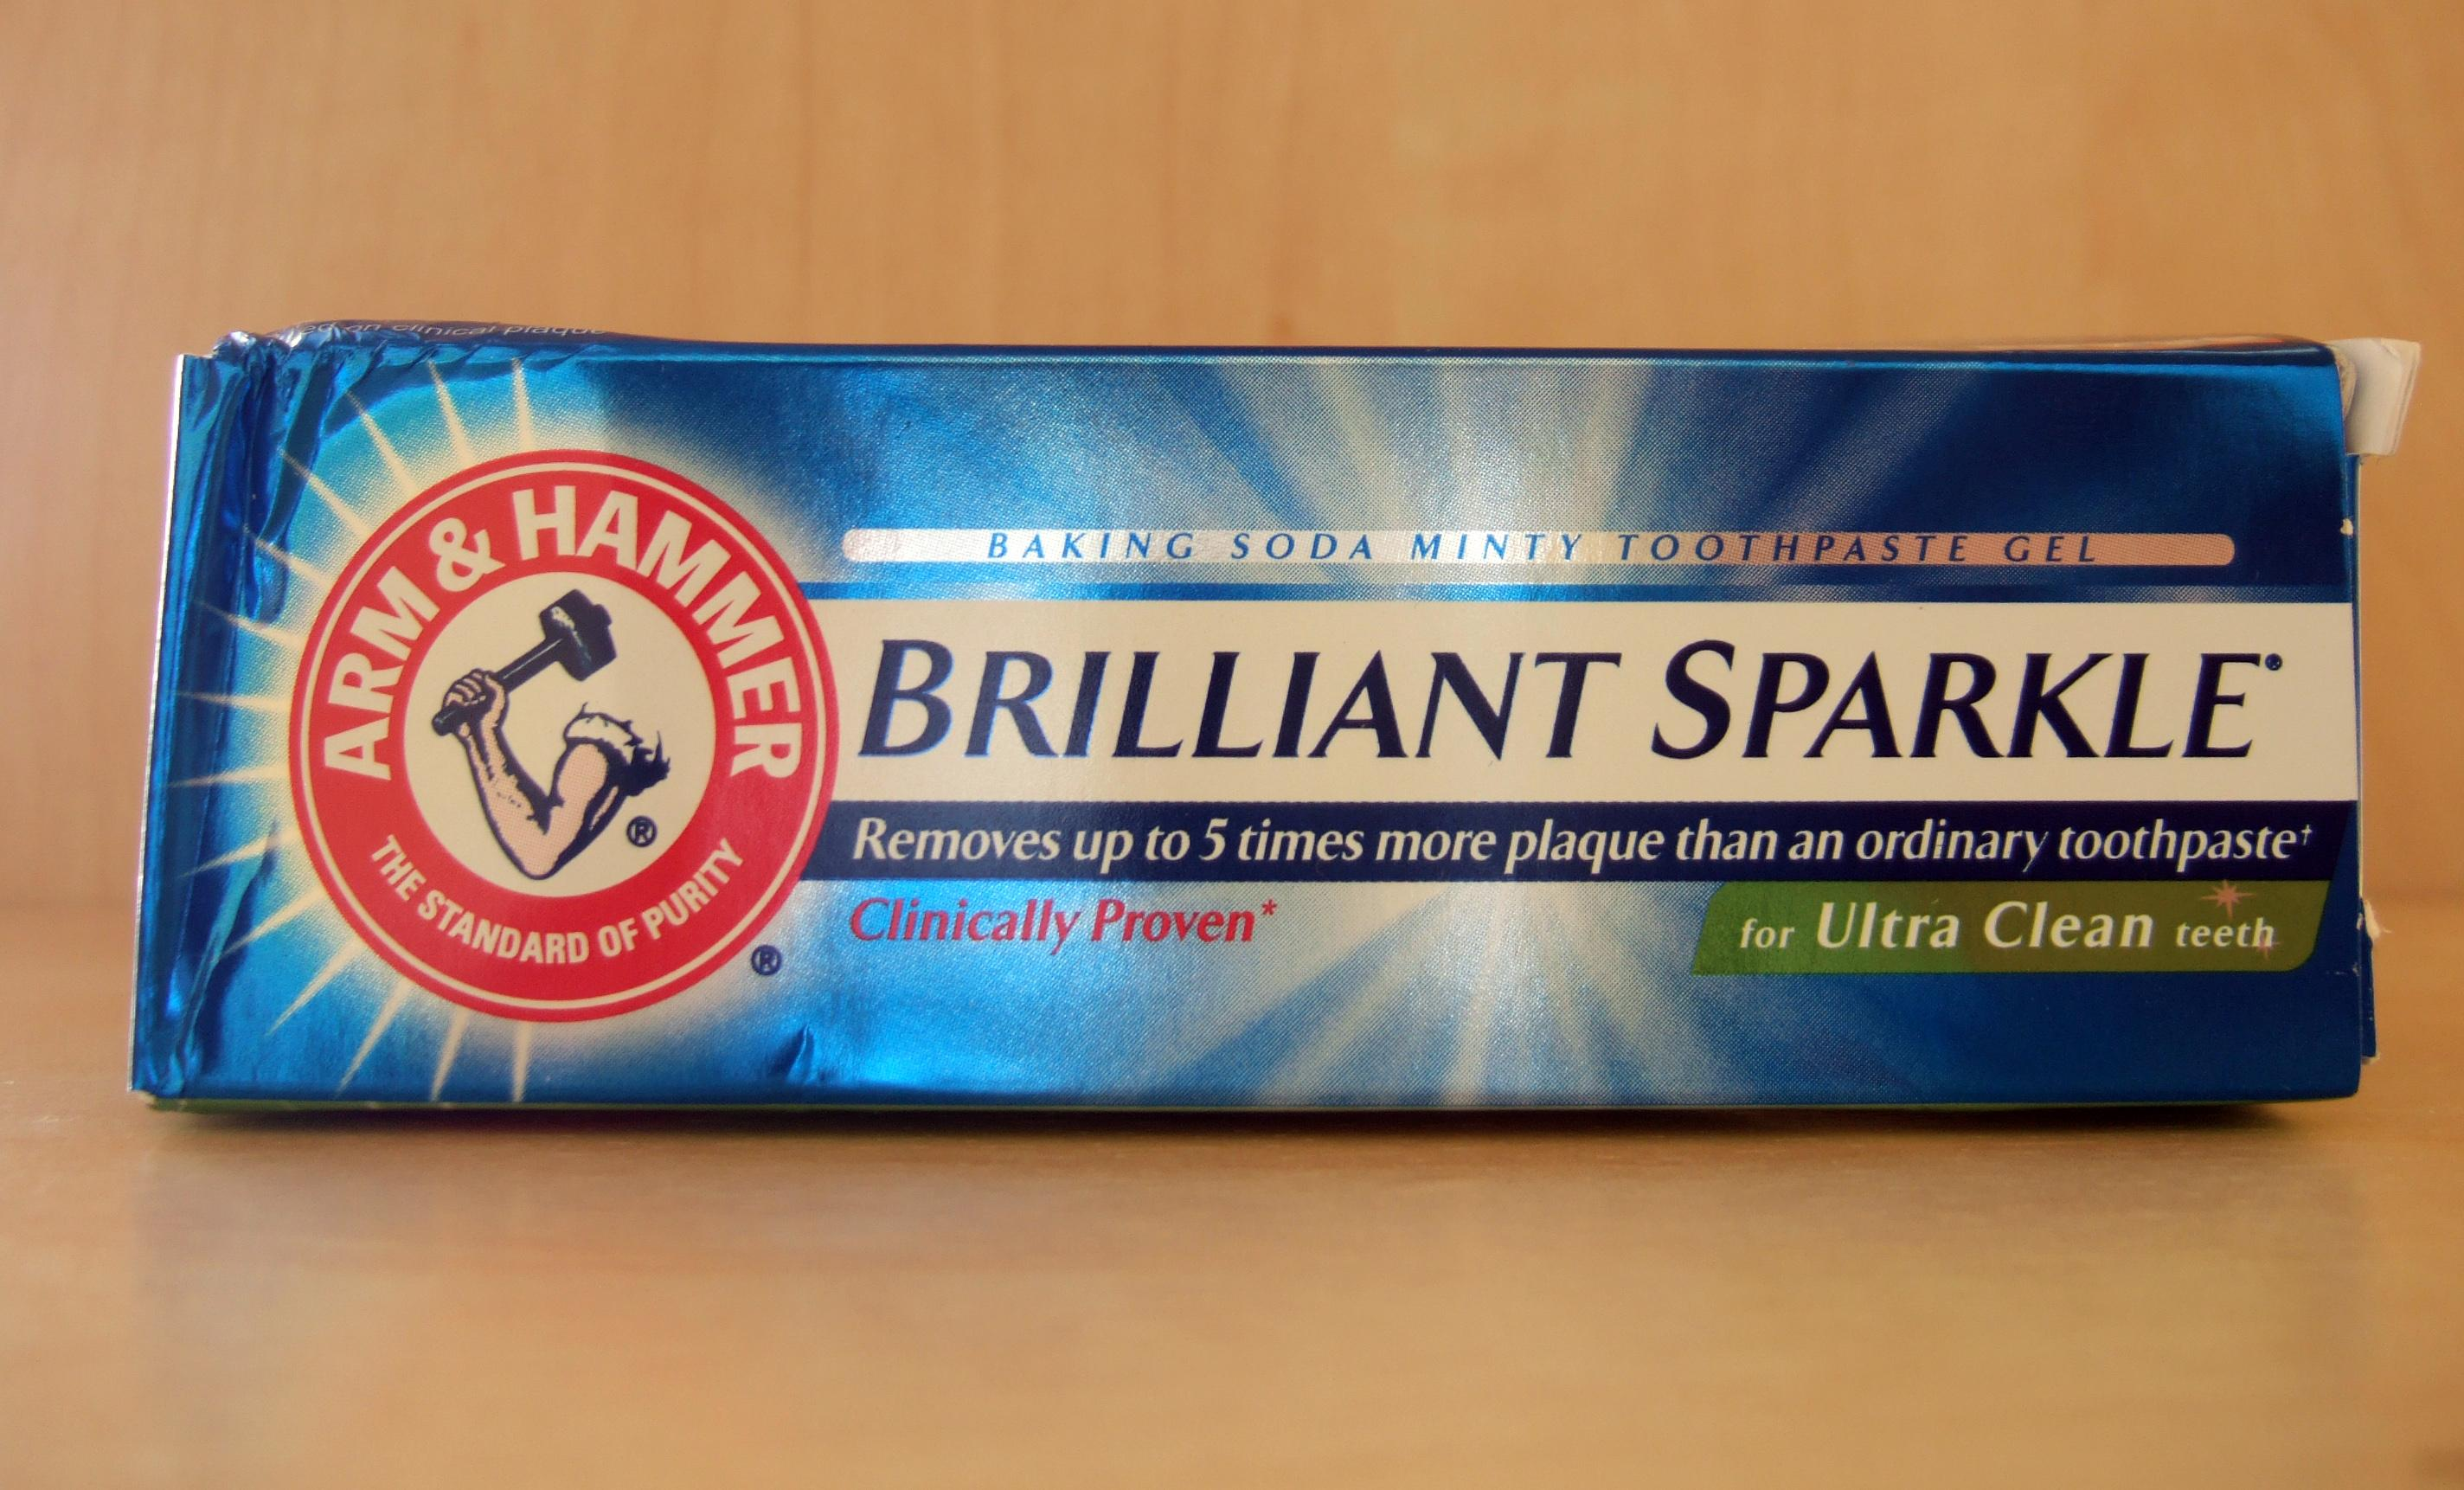toothpaste: (148, 315, 2392, 1117)
